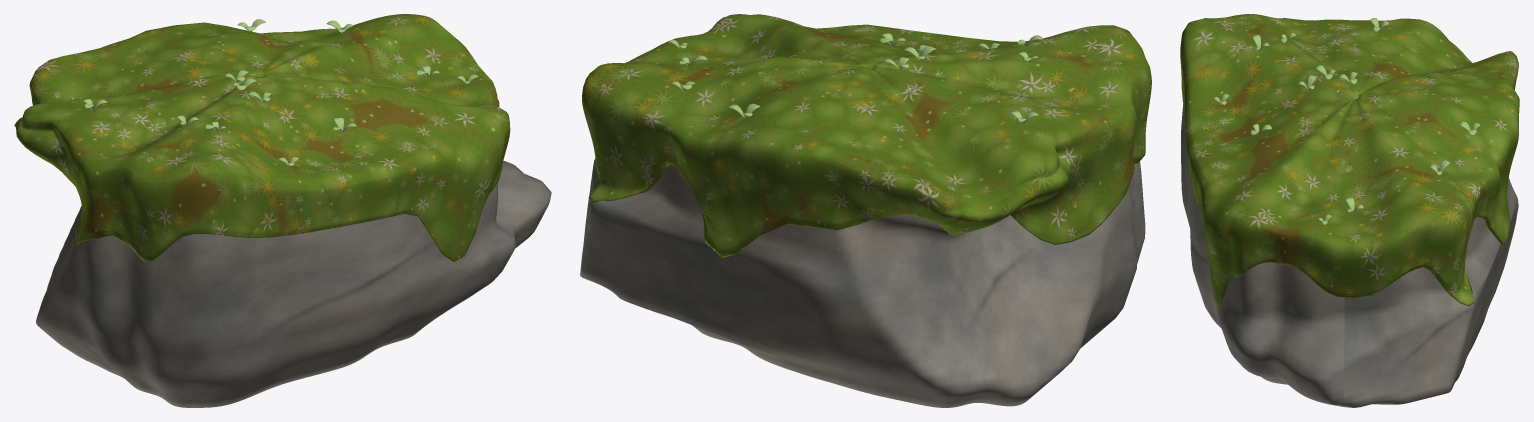
File: SM_Valley_CreekBoulder_SteppedFlank.fbx
3 views of the same model, side by side, from view 1: azimuth 30°, elevation 25°; view 2: azimuth 150°, elevation 25°; view 3: azimuth 270°, elevation 25° (orthographic). The views are drawn at different scales.
Visible parts, largest first — view 1: SM_Valley_CreekBoulder_SteppedFlank; view 2: SM_Valley_CreekBoulder_SteppedFlank; view 3: SM_Valley_CreekBoulder_SteppedFlank.
Part boxes in pixels (left/top/right/bottom): SM_Valley_CreekBoulder_SteppedFlank: left=14, top=14, right=551, bottom=407; SM_Valley_CreekBoulder_SteppedFlank: left=580, top=14, right=1151, bottom=407; SM_Valley_CreekBoulder_SteppedFlank: left=1180, top=14, right=1519, bottom=407.
Size of the model in its own units: 125 by 81.28 by 66.79.
3 materials, 2 textured.
